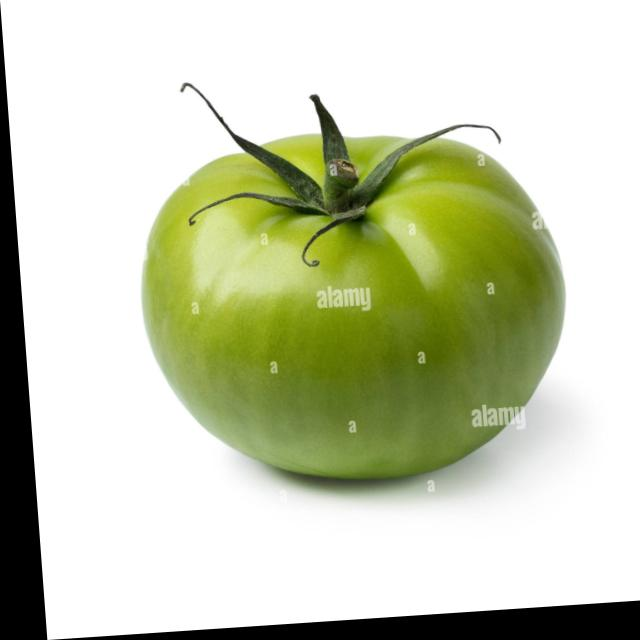yesil: (122, 99, 589, 530)
